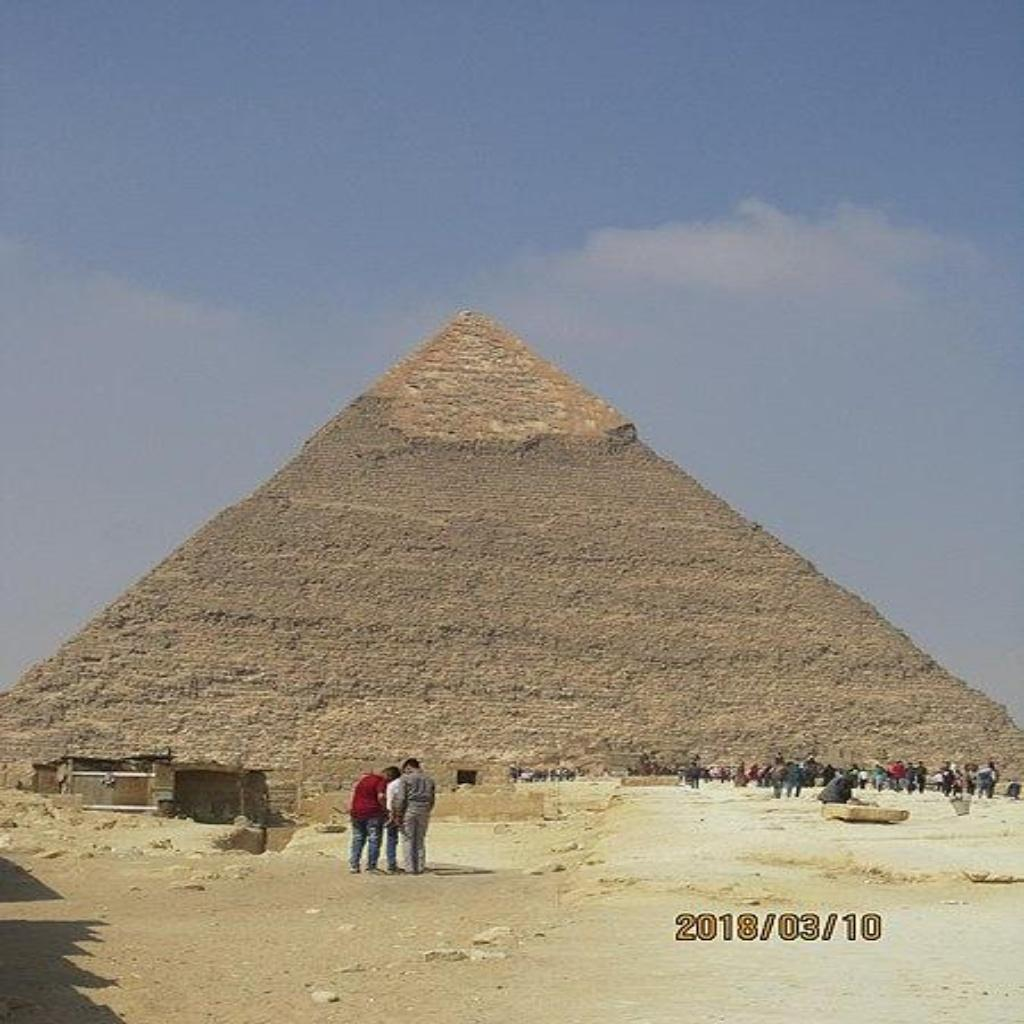Great Pyramids of Giza: (4, 300, 1018, 824)
